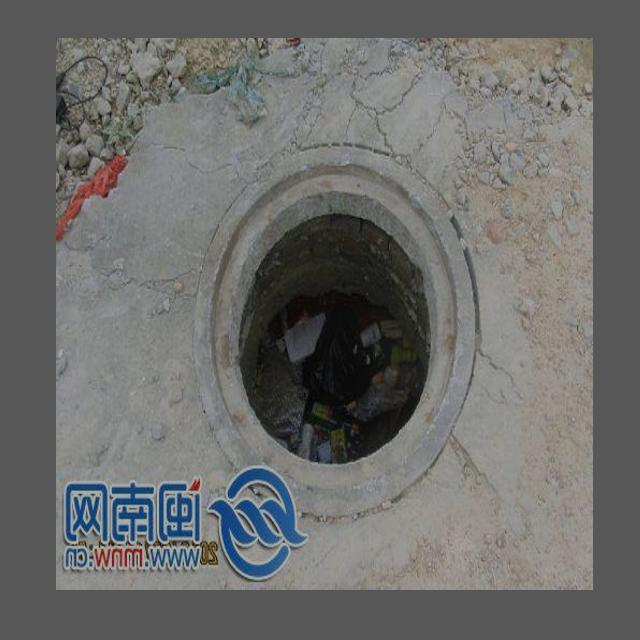lose: (188, 138, 478, 526)
